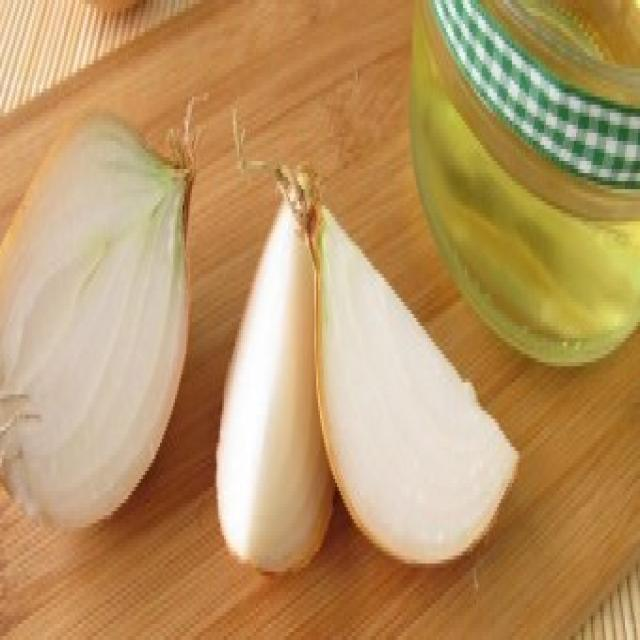onion: (213, 148, 535, 600), (6, 89, 198, 528)
